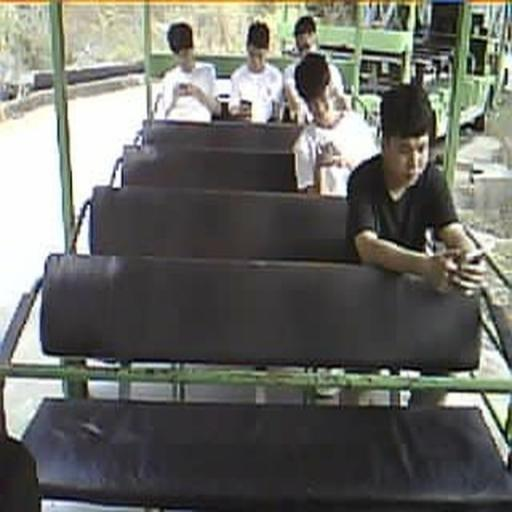persona: (345, 82, 486, 296), (291, 52, 380, 198), (152, 21, 222, 123), (283, 15, 345, 124), (228, 20, 284, 123)
